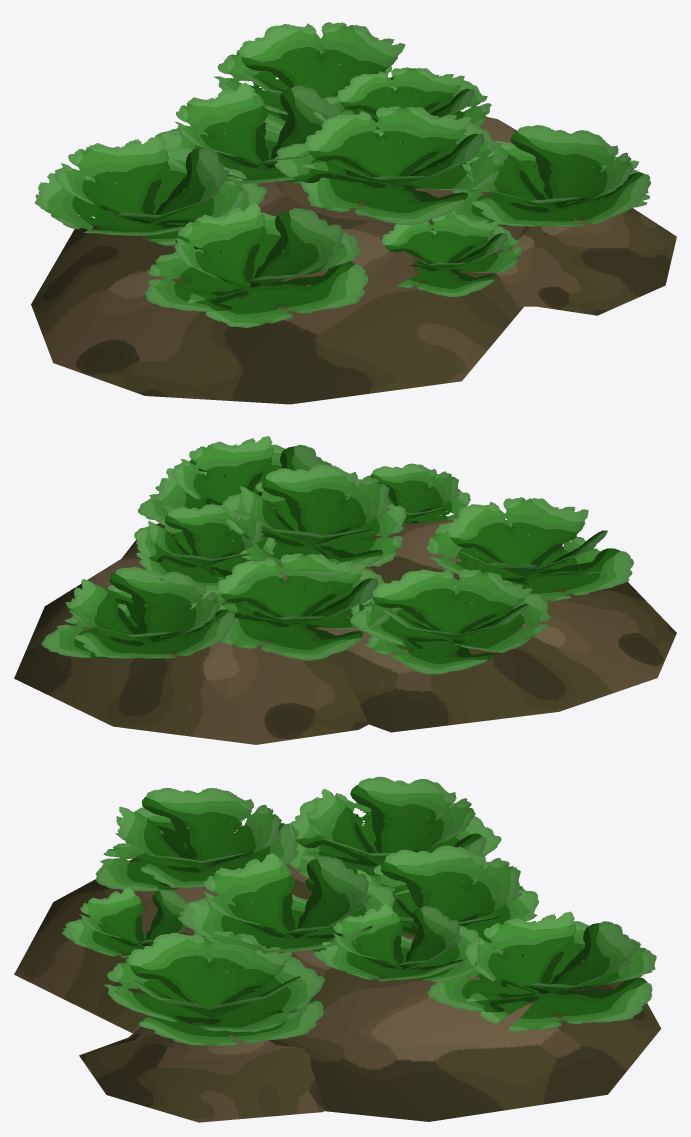
The model's file is Lettuce Coral 5_preview_3DS_simplified.glb.
3 renders of one model, top to bottom at view 1: azimuth 30°, elevation 25°; view 2: azimuth 150°, elevation 25°; view 3: azimuth 270°, elevation 25°, orthographic. The views are drawn at different scales.
Visible parts, largest first — view 1: Marine Park Empire model; view 2: Marine Park Empire model; view 3: Marine Park Empire model.
Boxes of the visible parts, x1=… form: Marine Park Empire model: x1=31, y1=22, x2=676, y2=404; Marine Park Empire model: x1=14, y1=436, x2=676, y2=744; Marine Park Empire model: x1=14, y1=776, x2=661, y2=1122.
Bounding box in the file's own units: 166 × 33.19 × 162.
Materials: 2 (2 with a texture image).
